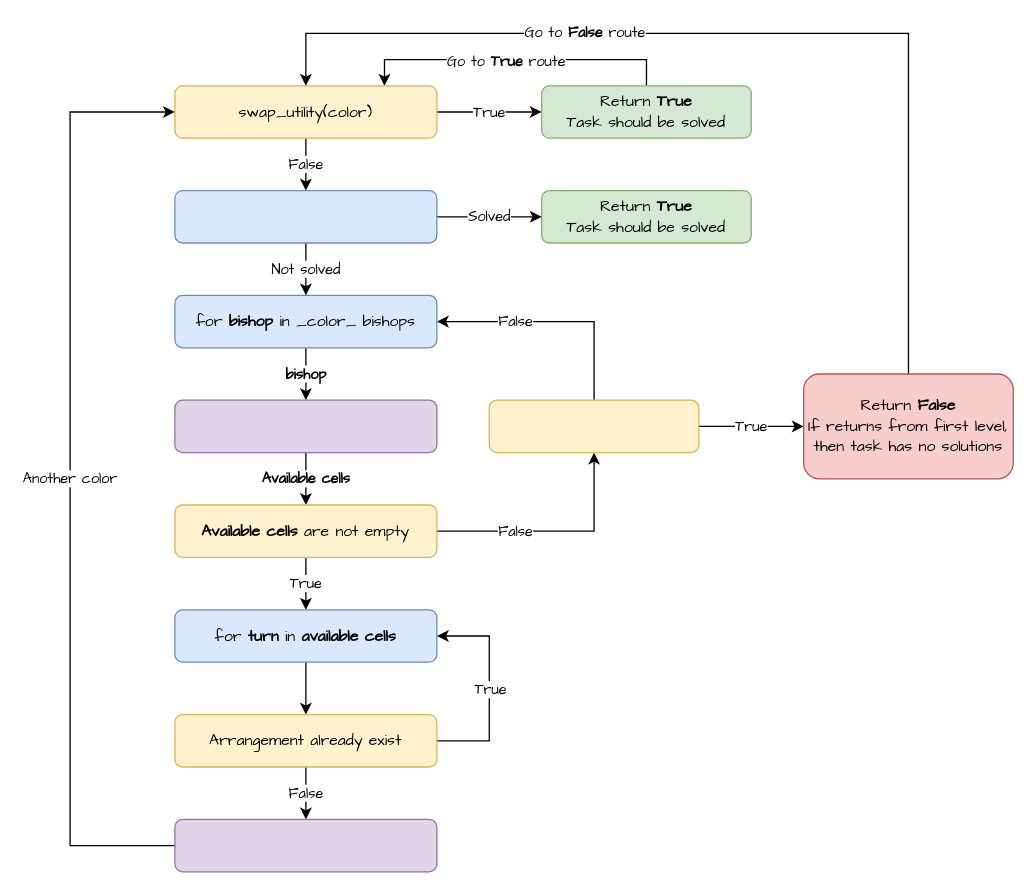
The diagram is 1036 pixels wide and 895 high, and some of its shapes have lost their labels. The shapes that lost their labels are listed below. From the top down, each one's centre as x and y in pixels, then its label:
At point (305, 216): "while task is not solved".
At point (305, 426): "Get available diagonal cells for bishop".
At point (593, 426): "This is the last bishop in _color_bishops".
At point (305, 845): "Make turn and save current arrangement".
